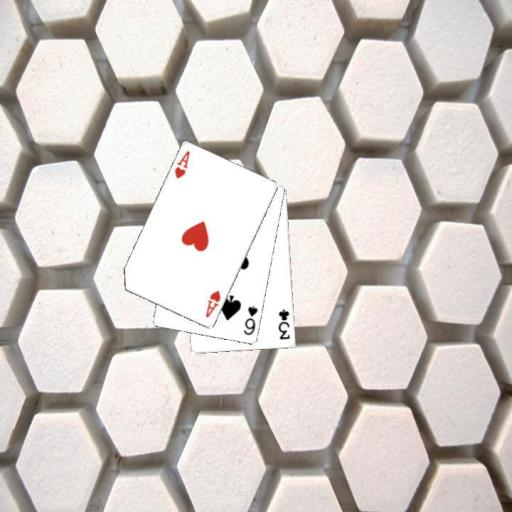3C: (275, 307, 292, 342)
6S: (241, 303, 260, 337)
AH: (172, 148, 192, 181), (203, 288, 223, 320)
